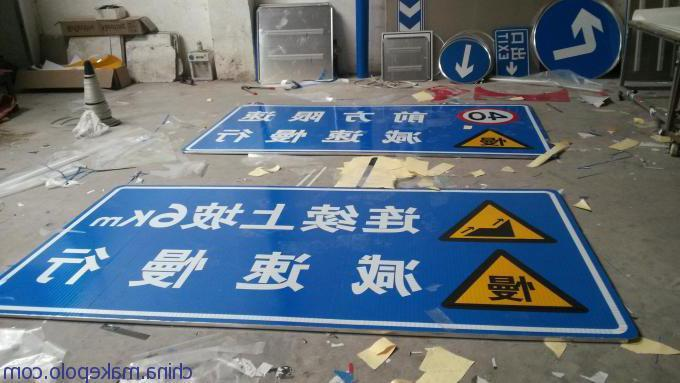sign: (1, 186, 638, 338), (182, 101, 557, 160)
